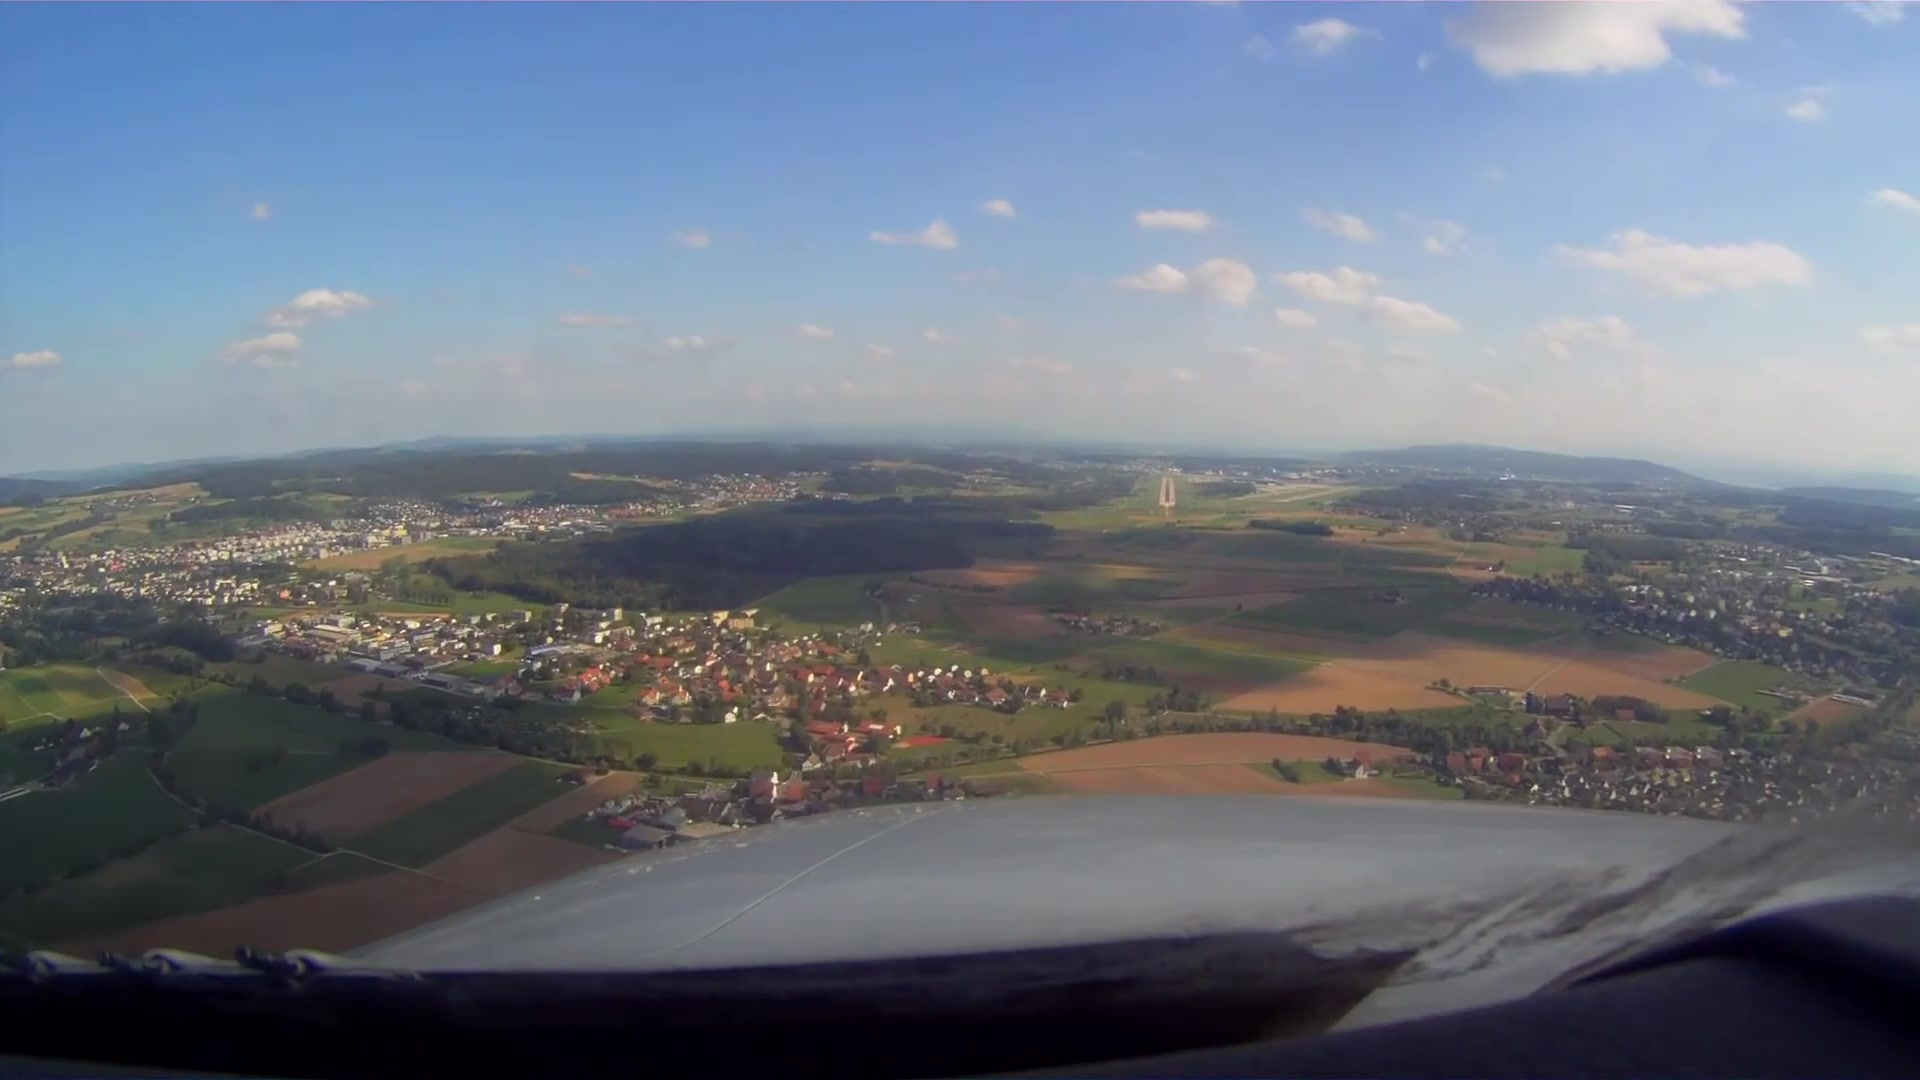runway: (1158, 477, 1178, 506)
